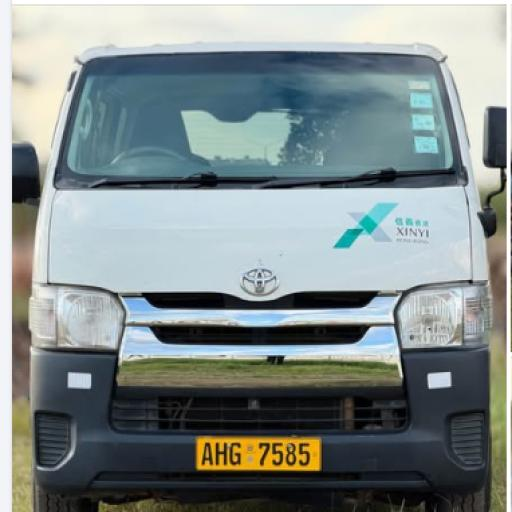number-plates: (196, 436, 311, 469)
